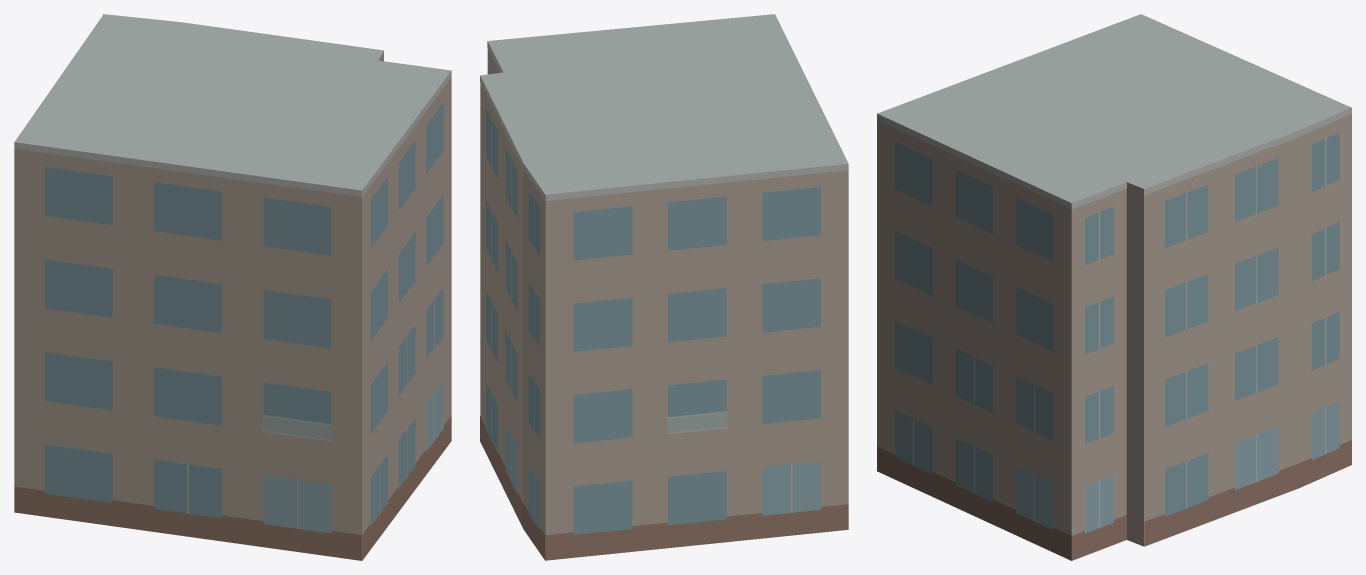
Rendered from survey-upis-32476448.glb.
The picture shows the model from 3 angles, left to right: view 1: azimuth 30°, elevation 25°; view 2: azimuth 150°, elevation 25°; view 3: azimuth 270°, elevation 25°; orthographic projection. The views are drawn at different scales.
Parts seen in each view (by area): view 1: survey-upis-32476448.tmp; view 2: survey-upis-32476448.tmp; view 3: survey-upis-32476448.tmp.
Part boxes in pixels (x1,y1,x2,y2): survey-upis-32476448.tmp: (14, 14, 451, 560); survey-upis-32476448.tmp: (480, 14, 848, 560); survey-upis-32476448.tmp: (877, 14, 1351, 560).
Size of the model in its own units: 15.78 by 13.9 by 16.73.
